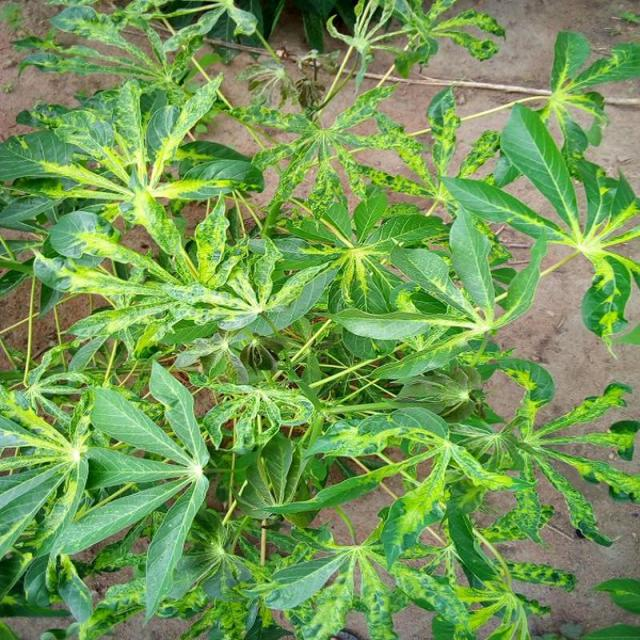cassava leaf: (0, 2, 638, 637), (498, 101, 580, 236)
